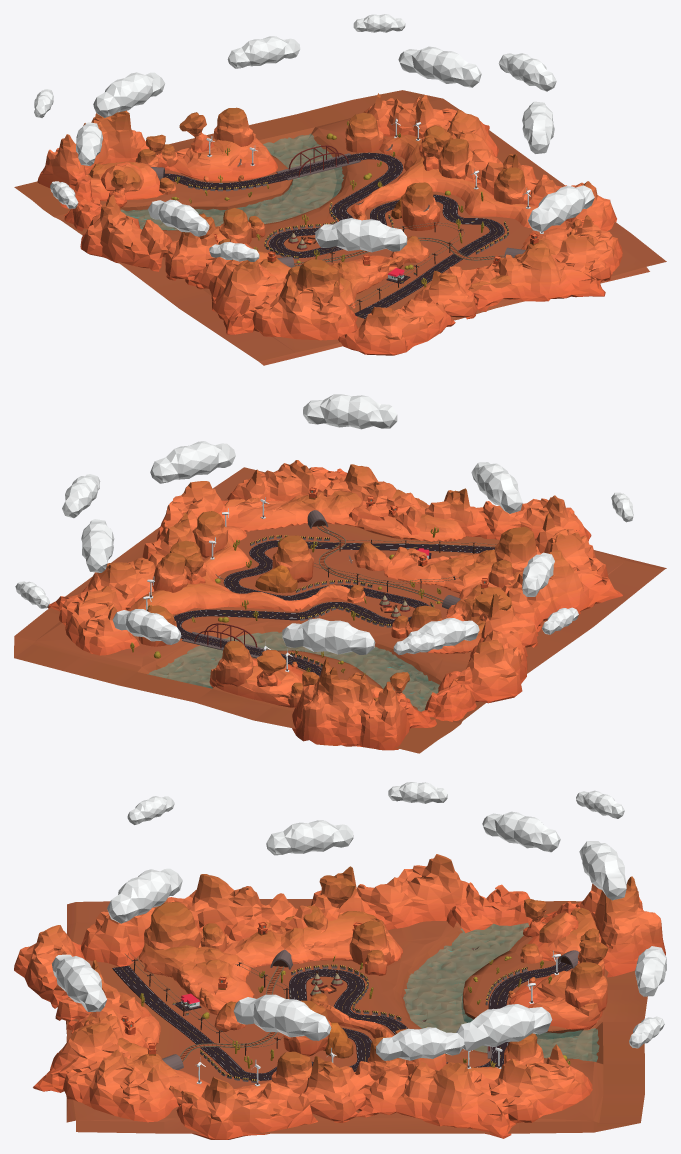
File: desert.optimized.glb
The picture shows the model from 3 angles, top to bottom: view 1: azimuth 30°, elevation 25°; view 2: azimuth 150°, elevation 25°; view 3: azimuth 270°, elevation 25°; orthographic projection. The views are drawn at different scales.
Parts seen in each view (by area): view 1: mountains, clouds, track.collideable, water, track; view 2: mountains, clouds, track.collideable, water, track; view 3: mountains, clouds, track.collideable, water, track.
Part boxes in pixels (x1,y1,x2,y2): mountains: (14, 90, 666, 365); clouds: (34, 14, 594, 261); track.collideable: (150, 147, 525, 319); water: (120, 134, 343, 230); track: (171, 119, 543, 307); mountains: (14, 460, 666, 753); clouds: (15, 394, 633, 656); track.collideable: (173, 510, 494, 676); water: (147, 631, 439, 711); track: (130, 487, 496, 675); mountains: (14, 854, 665, 1139); clouds: (52, 782, 666, 1069); track.collideable: (112, 949, 578, 1083); water: (403, 923, 599, 1061); track: (121, 922, 570, 1086).
Bounding box in the file's own units: 392 × 84.75 × 394.
5 materials, 5 textured.
